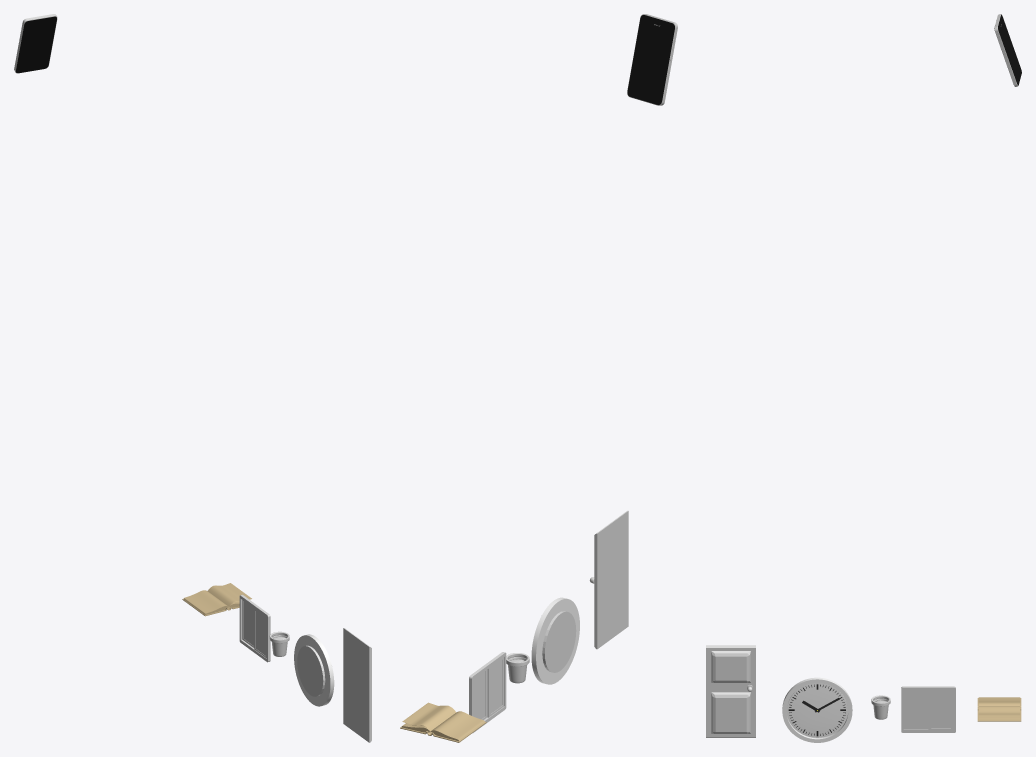
3 renders of one model, left to right at view 1: azimuth 30°, elevation 25°; view 2: azimuth 150°, elevation 25°; view 3: azimuth 270°, elevation 25°, orthographic. The views are drawn at different scales.
Parts seen in each view (by area): view 1: Cube, Phone_PhoneGlass_0, Open Book, outer, Circle, Cube.002; view 2: Cube, Phone_PhoneGlass_0, Open Book, outer, Circle, Plane.001, Cube.002, Plane, Cylinder, Phone_MetalRim_0; view 3: Cube, Cover, Face, outer, Open Book, Plane, Plane.001, Cube.002, Phone_PhoneGlass_0.
Boxes of the visible parts, box(x1,y1,x2,y2) form: Cube: box(343, 628, 371, 742); Phone_PhoneGlass_0: box(16, 16, 56, 73); Open Book: box(182, 583, 251, 616); outer: box(294, 634, 334, 706); Circle: box(297, 645, 325, 696); Cube.002: box(239, 594, 270, 662); Cube: box(594, 510, 628, 649); Phone_PhoneGlass_0: box(627, 15, 674, 104); Open Book: box(400, 702, 486, 742); outer: box(531, 597, 579, 684); Circle: box(542, 611, 576, 672); Plane.001: box(487, 657, 504, 717); Cube.002: box(469, 652, 506, 732); Plane: box(473, 669, 487, 719); Cylinder: box(506, 653, 529, 683); Phone_MetalRim_0: box(627, 14, 677, 105); Cube: box(706, 645, 755, 737); Cover: box(787, 684, 847, 737); Face: box(787, 683, 847, 737); outer: box(782, 677, 852, 742); Open Book: box(977, 697, 1021, 721); Plane: box(928, 690, 953, 729); Plane.001: box(903, 690, 928, 729); Cube.002: box(901, 686, 955, 732); Phone_PhoneGlass_0: box(994, 14, 1021, 85).
Size of the model in its own units: 972 by 2809 by 1262.
